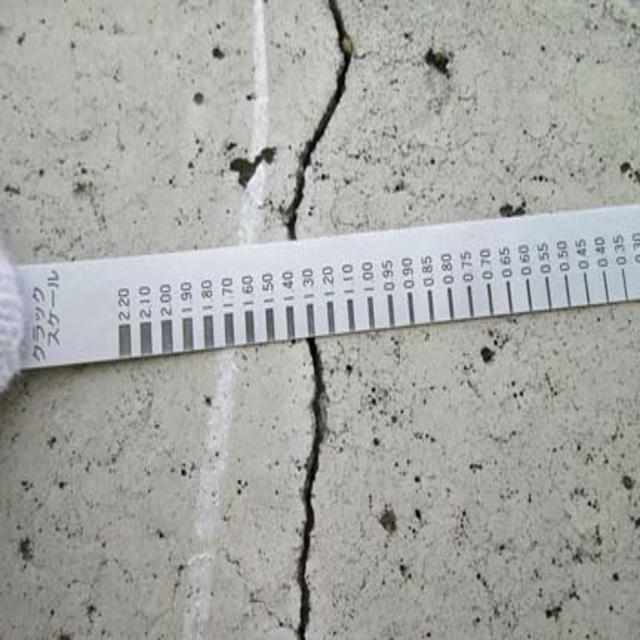crack: (273, 340, 367, 640), (273, 9, 383, 234)
